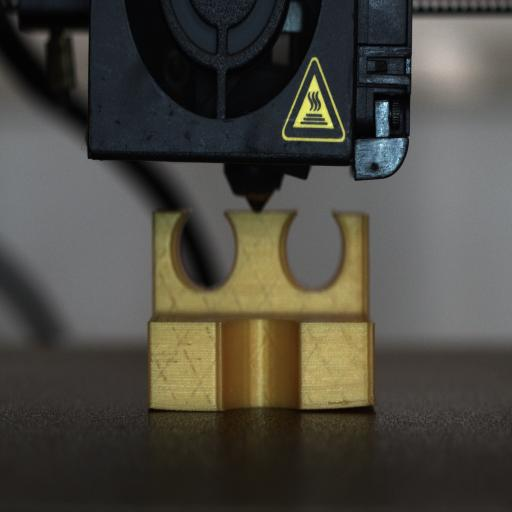warp: (321, 386, 383, 419), (142, 394, 184, 418)
